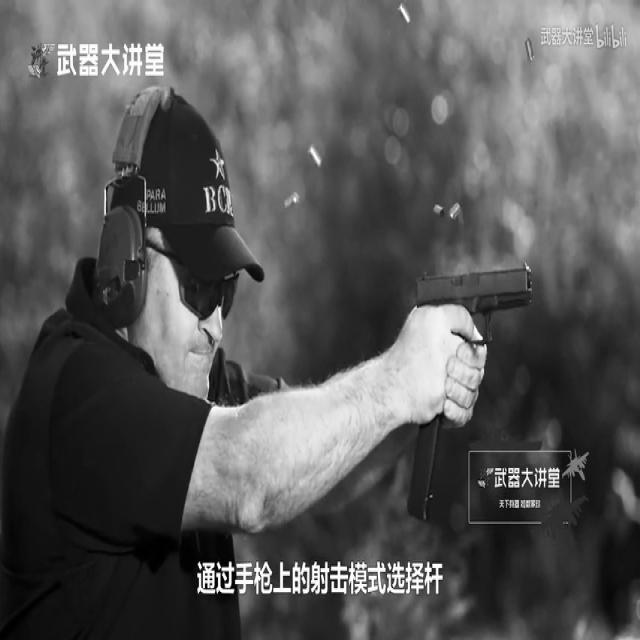Sub-machine-gun: (371, 136, 567, 607)
